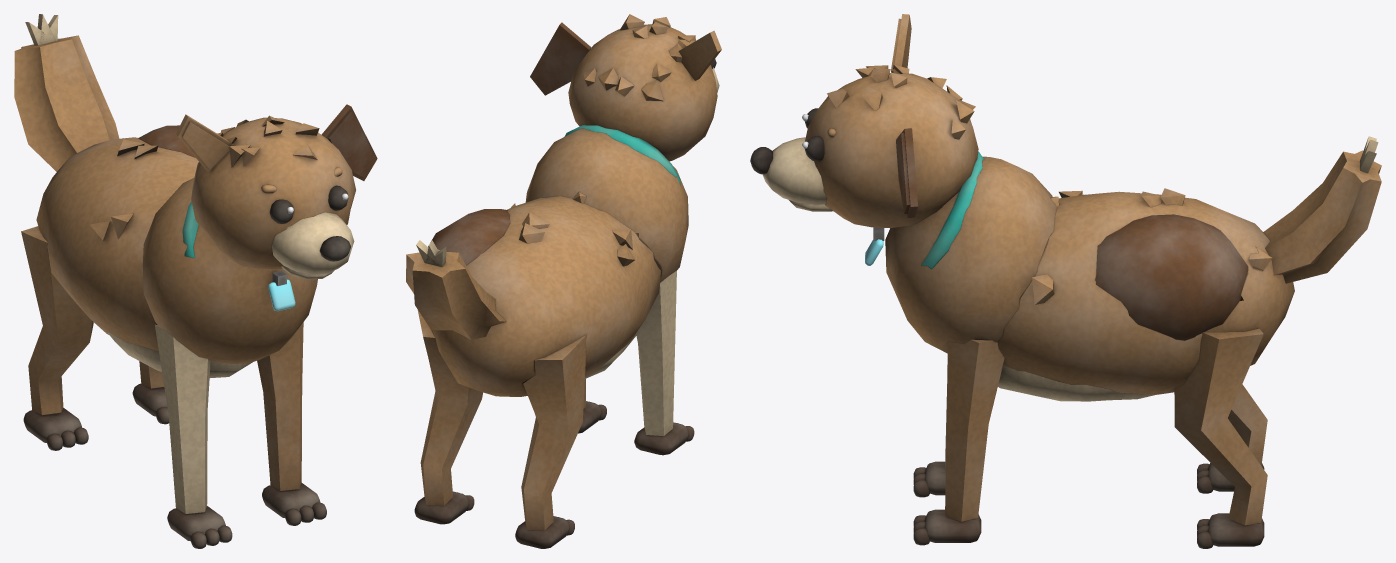
Rendered from dog.fbx.
The picture shows the model from 3 angles, left to right: view 1: azimuth 30°, elevation 25°; view 2: azimuth 150°, elevation 25°; view 3: azimuth 270°, elevation 25°; orthographic projection. The views are drawn at different scales.
Visible parts, largest first — view 1: Body, Head, Tail, LegFR, LegBR, LegFL, LegBL; view 2: Body, Head, LegBR, LegBL, LegFR, Tail, LegFL; view 3: Body, Head, LegBL, LegFL, Tail, LegBR, LegFR.
Boxes of the visible parts, x1=… form: Body: x1=36, y1=125, x2=317, y2=377; Head: x1=176, y1=104, x2=377, y2=274; Tail: x1=14, y1=14, x2=119, y2=171; LegFR: x1=155, y1=324, x2=232, y2=548; LegBR: x1=21, y1=226, x2=93, y2=450; LegFL: x1=257, y1=322, x2=326, y2=525; LegBL: x1=132, y1=361, x2=169, y2=424; Body: x1=428, y1=124, x2=688, y2=396; Head: x1=530, y1=14, x2=721, y2=161; LegBR: x1=515, y1=334, x2=586, y2=548; LegBL: x1=414, y1=310, x2=482, y2=524; LegFR: x1=634, y1=270, x2=694, y2=455; Tail: x1=406, y1=240, x2=506, y2=339; LegFL: x1=578, y1=379, x2=606, y2=433; Body: x1=865, y1=151, x2=1294, y2=401; Head: x1=750, y1=14, x2=978, y2=228; LegBL: x1=1174, y1=328, x2=1267, y2=548; LegFL: x1=913, y1=339, x2=1004, y2=545; Tail: x1=1263, y1=136, x2=1381, y2=283; LegBR: x1=1197, y1=299, x2=1267, y2=493; LegFR: x1=913, y1=365, x2=947, y2=497.
Bounding box in the file's own units: 1.14 × 2.33 × 2.9.
Materials: 1 (1 with a texture image).
